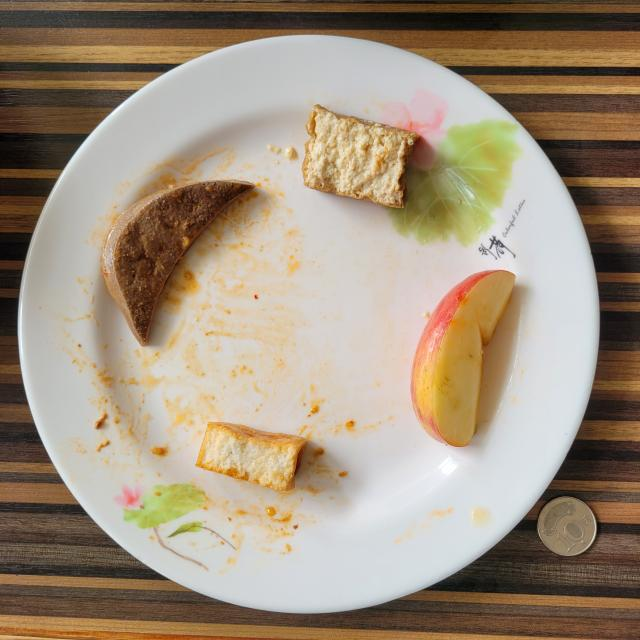apple -sliced-: (411, 270, 515, 446)
coin: (538, 496, 596, 556)
creamy tofu: (196, 422, 306, 491)
egg tofu: (302, 105, 418, 208)
pig liver: (102, 180, 254, 345)
